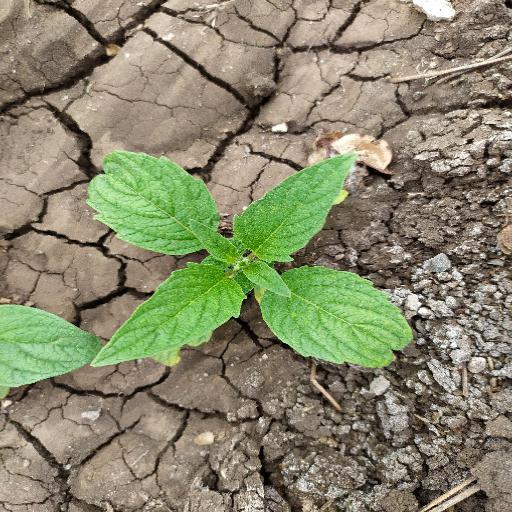crop: (71, 108, 422, 432)
